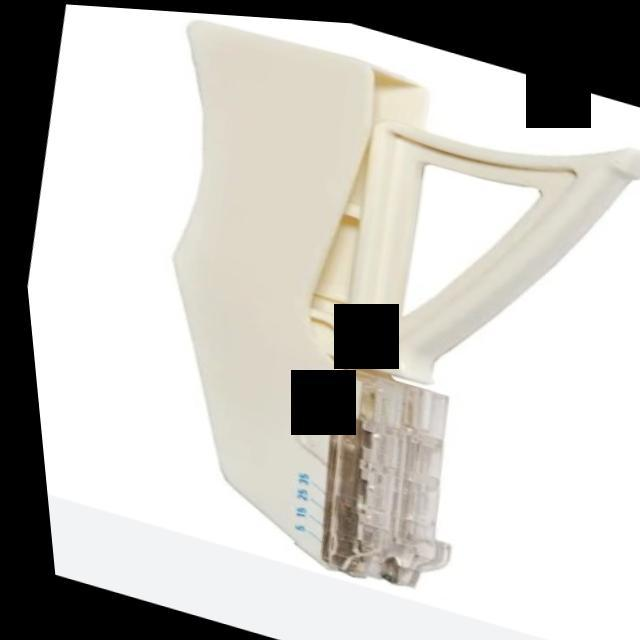Senn Retractor: (64, 3, 640, 640)
